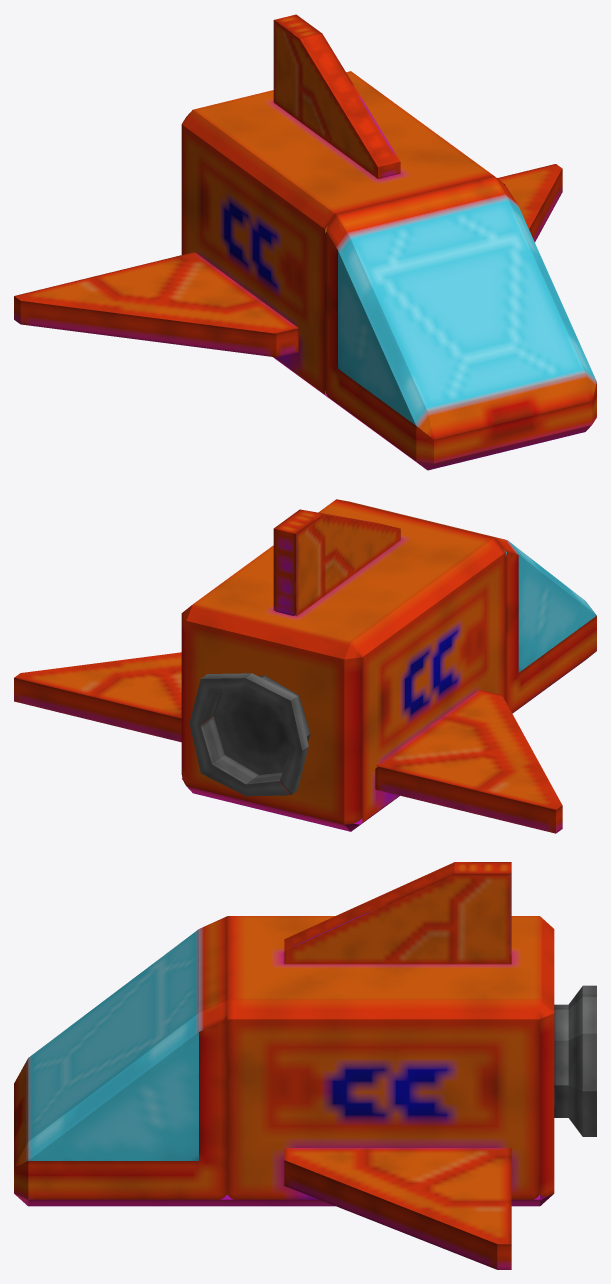
File: Delivery ship.fbx
3 views of the same model, one above another, from view 1: azimuth 30°, elevation 25°; view 2: azimuth 150°, elevation 25°; view 3: azimuth 270°, elevation 25° (orthographic). The views are drawn at different scales.
Visible parts, largest first — view 1: Ship base, Wing right, Top wing, Wing left; view 2: Ship base, Wing right, Jet, Wing left, Top wing; view 3: Ship base, Wing left, Top wing, Jet.
Part boxes in pixels (x1,y1,x2,y2): Ship base: (181, 71, 596, 470); Wing right: (14, 252, 298, 357); Top wing: (273, 14, 400, 178); Wing left: (497, 164, 562, 242); Ship base: (181, 499, 596, 831); Wing right: (375, 689, 562, 833); Jet: (189, 673, 310, 796); Wing left: (14, 652, 181, 742); Top wing: (273, 509, 400, 616); Ship base: (14, 916, 554, 1206); Wing left: (284, 1148, 511, 1269); Top wing: (284, 862, 511, 964); Jet: (554, 985, 596, 1136).
Size of the model in its own units: 300 by 144 by 256.
1 material, 1 textured.
